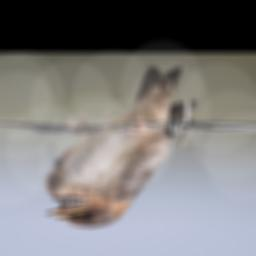Swallow: (42, 66, 199, 229)
